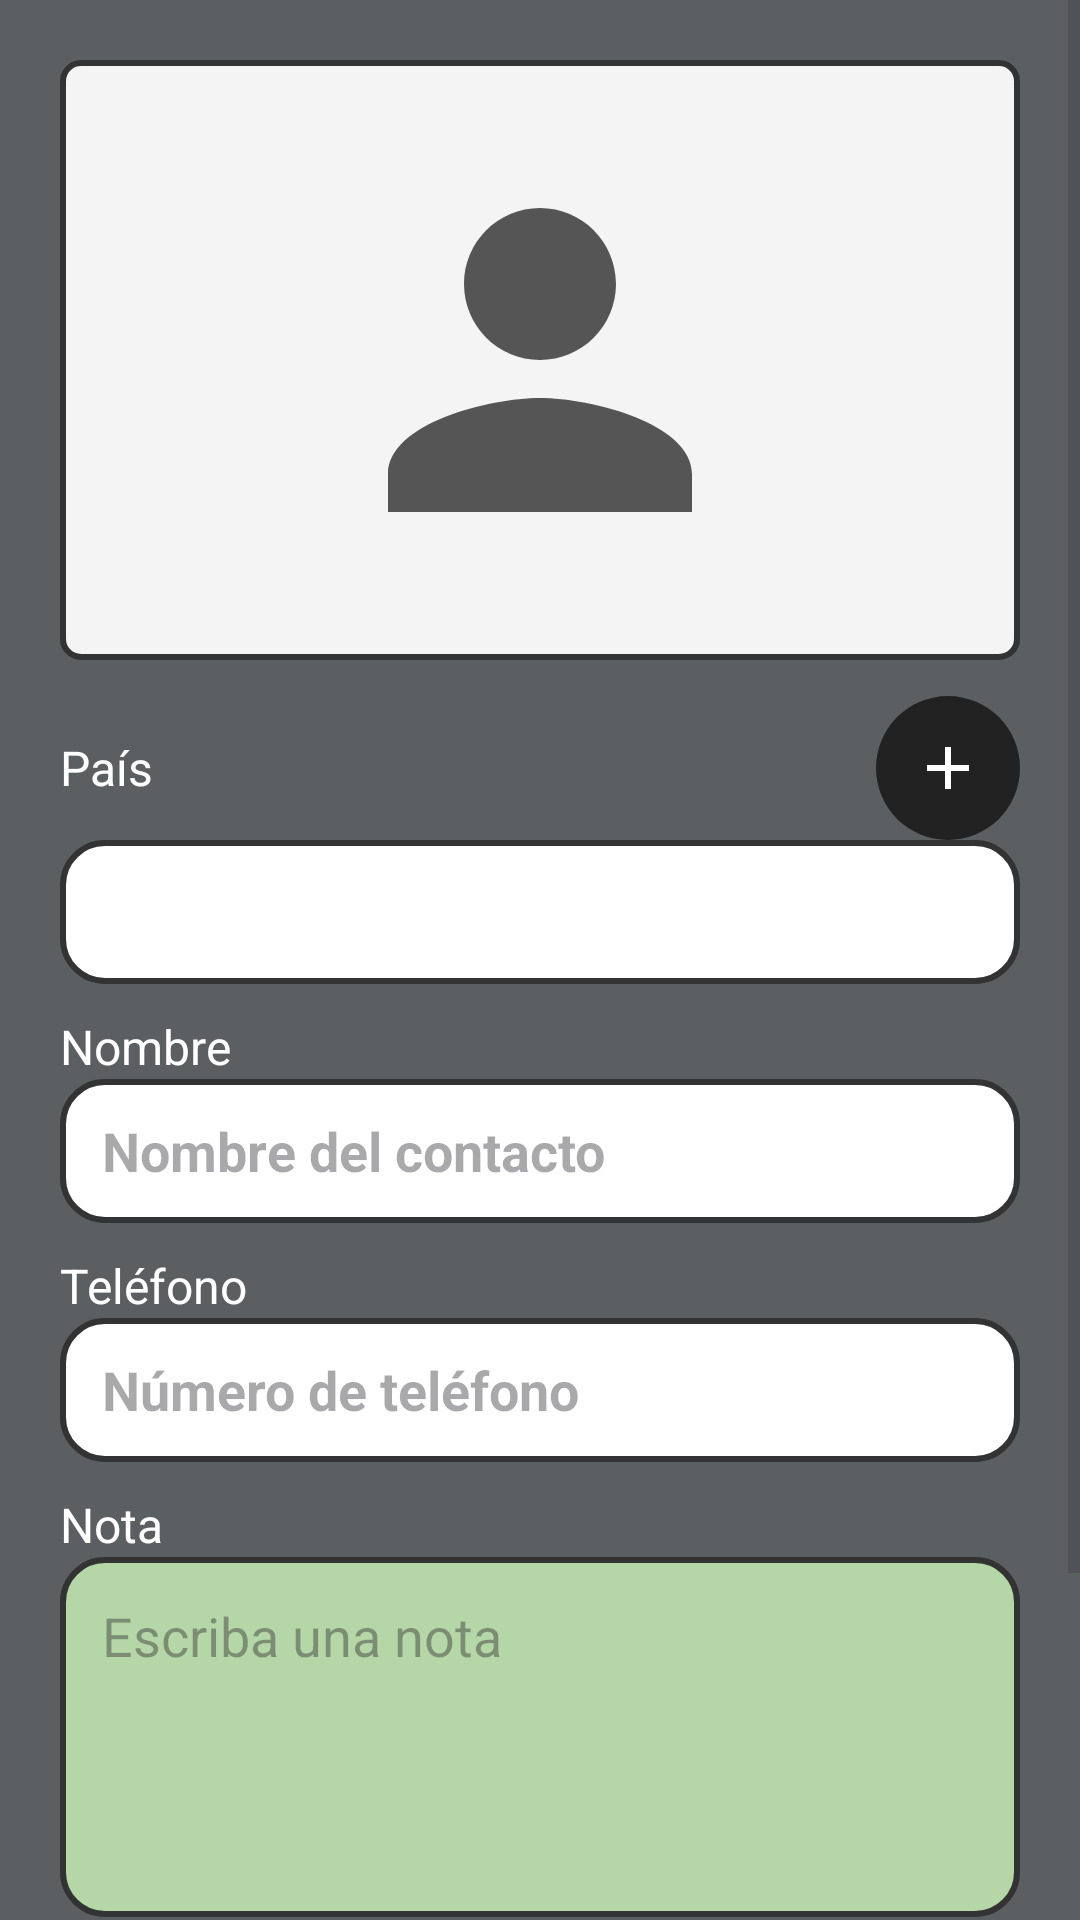

Screen size 1080*1920. Icon name, then its center in pixels as point (x, y):
Agregar imagen: point (948, 768)
